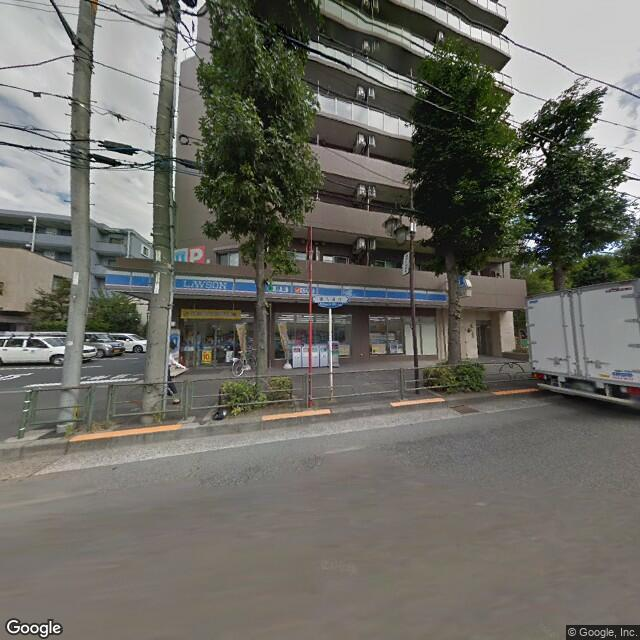lawson: (106, 268, 447, 308)
